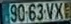0: (17, 3, 25, 21)
3: (36, 2, 44, 21)
6: (27, 3, 36, 21)
9: (10, 4, 17, 22)
V: (44, 2, 54, 20)
X: (54, 2, 64, 19)
